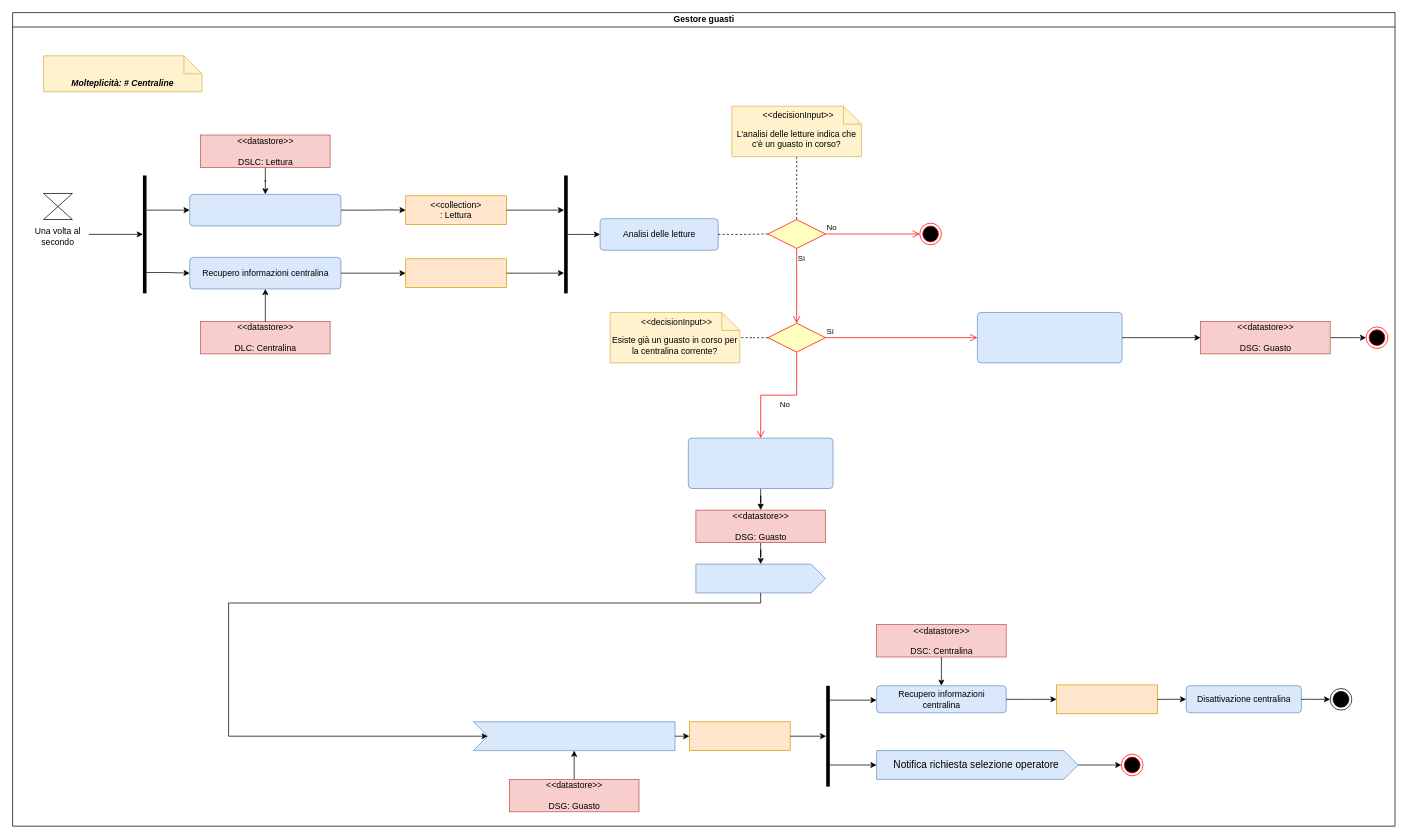
This 1408x839 diagram has some shape labels left out. The shapes that lost their labels are listed below. From the top down, each one's centre as x and y in pixels, then its label:
At [265,210]: "Recupero letture".
At [456,273]: ":Centralina".
At [1049,337]: "Aggiornamento del guasto con le ultime letture".
At [760,463]: "Creazione del guasto".
At [760,578]: "Gestione del guasto".
At [1106,699]: "Centralina".
At [574,736]: "Ricevi richiesta gestione guasto".
At [739,736]: "Guasto".
